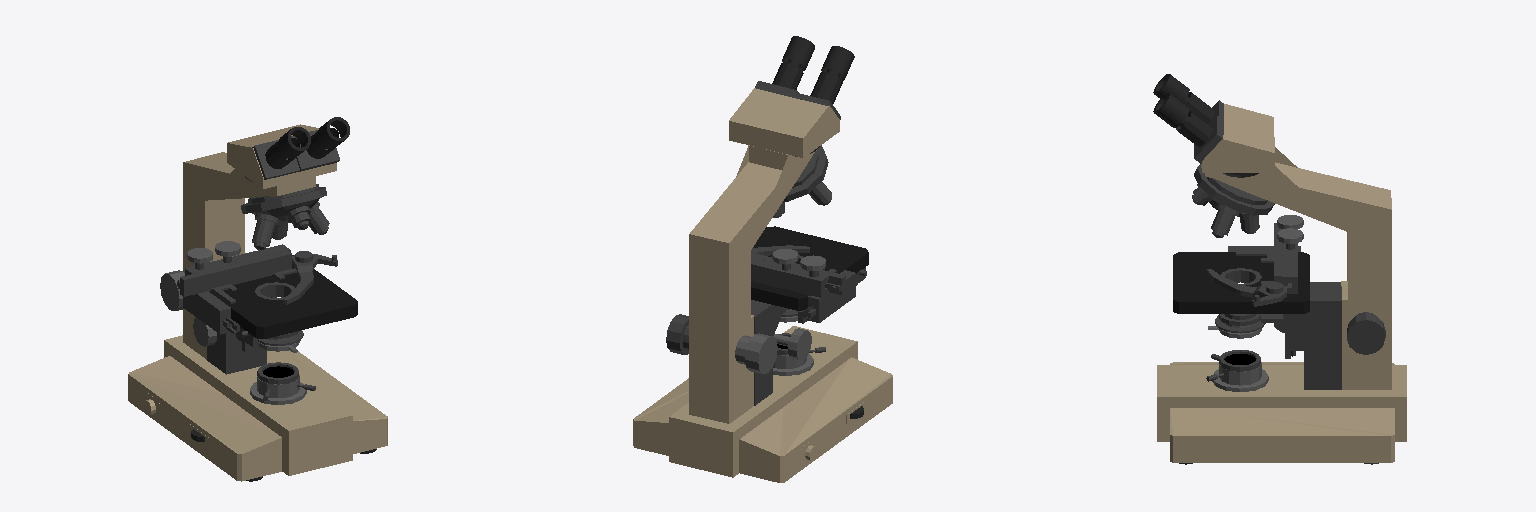
Rendered from microscope.obj.
3 views of the same model, side by side, from view 1: azimuth 30°, elevation 25°; view 2: azimuth 150°, elevation 25°; view 3: azimuth 270°, elevation 25° (orthographic).
Visible parts, largest first — view 1: lensbase; view 2: lensbase; view 3: lensbase.
Boxes of the visible parts, box(x1,y1,x2,y2) form: lensbase: box(128, 117, 387, 481); lensbase: box(633, 36, 892, 482); lensbase: box(1153, 74, 1406, 464).
Size of the model in its own units: 2.24 by 4.7 by 3.11.